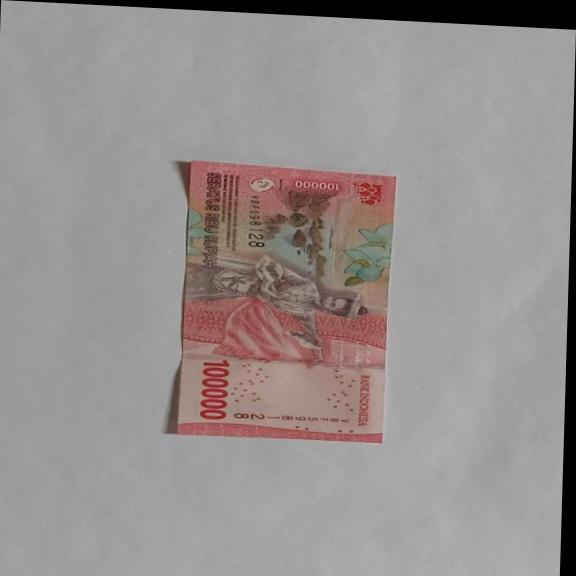Kertas: (172, 159, 397, 445), (196, 358, 232, 421)
